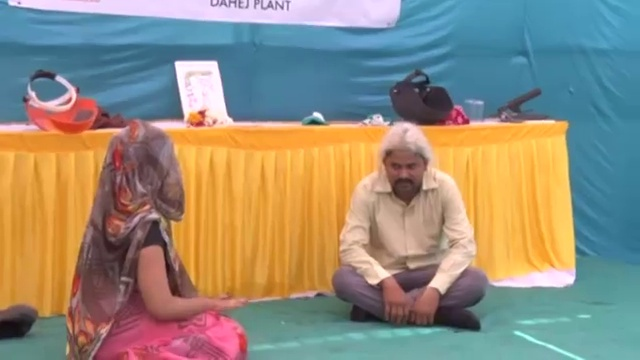helmet_off: (96, 125, 185, 223), (379, 126, 432, 195)
person: (64, 118, 252, 360), (328, 121, 488, 332)
